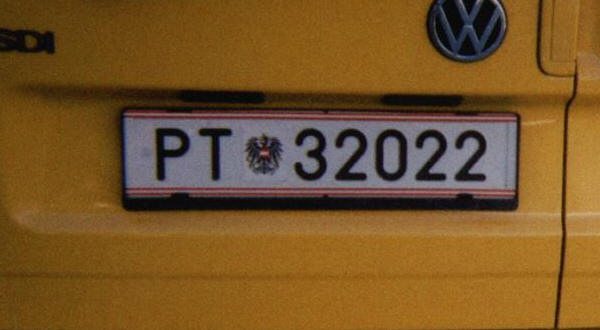license_plate: (121, 107, 516, 199)
